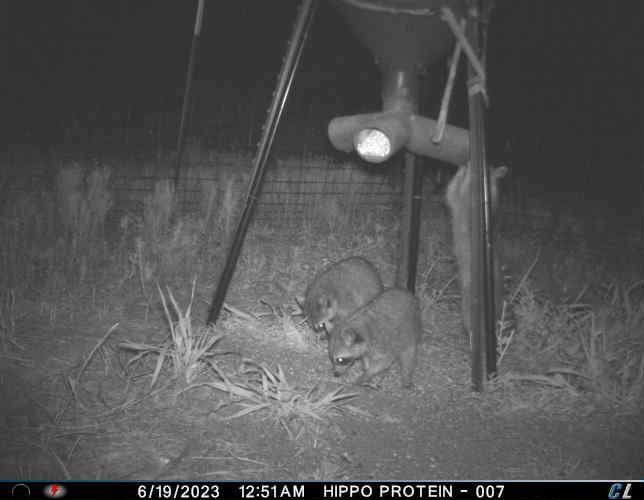Raccoon: (447, 162, 509, 353), (323, 288, 424, 393), (302, 254, 389, 343)
